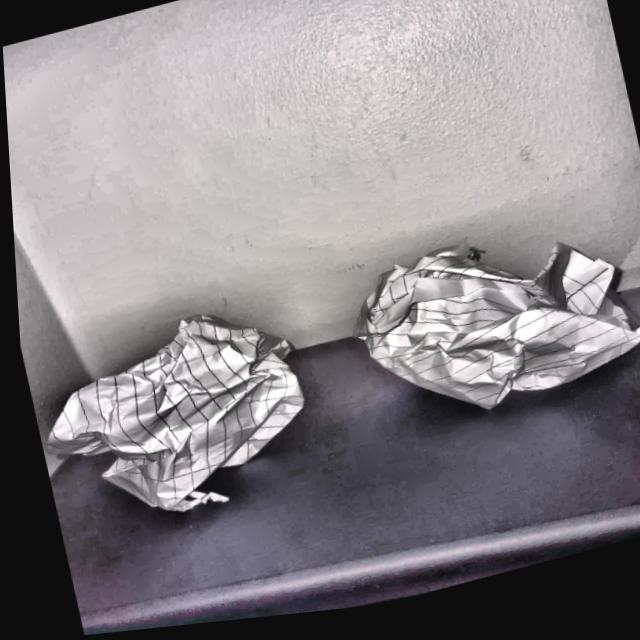Paper: (321, 191, 640, 461), (36, 283, 321, 538)
